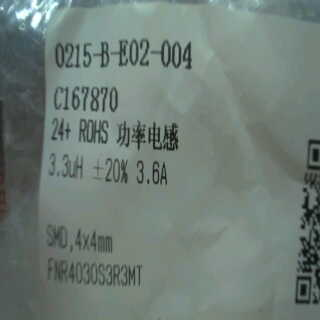3.3uH: (41, 147, 89, 189)
